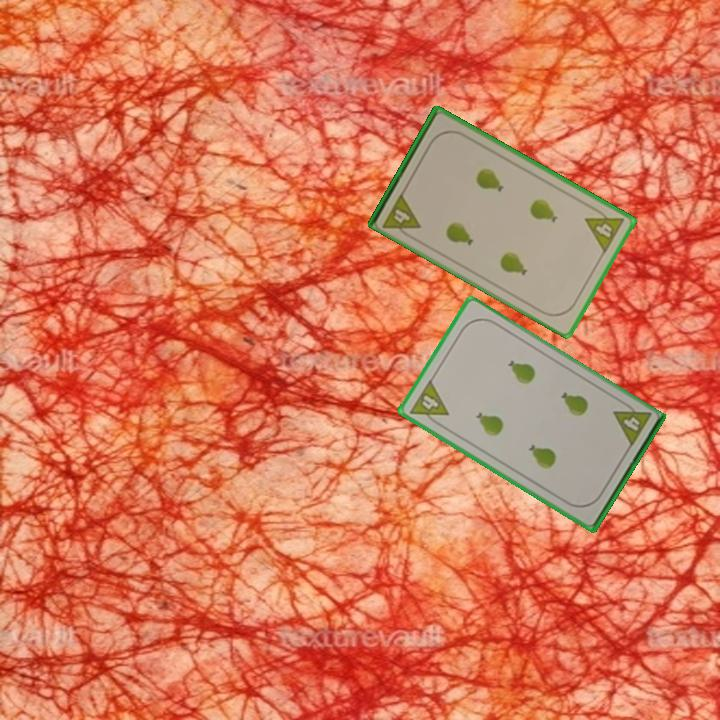4p: (406, 376, 451, 430), (582, 203, 627, 256), (379, 189, 424, 242), (610, 397, 654, 450)
